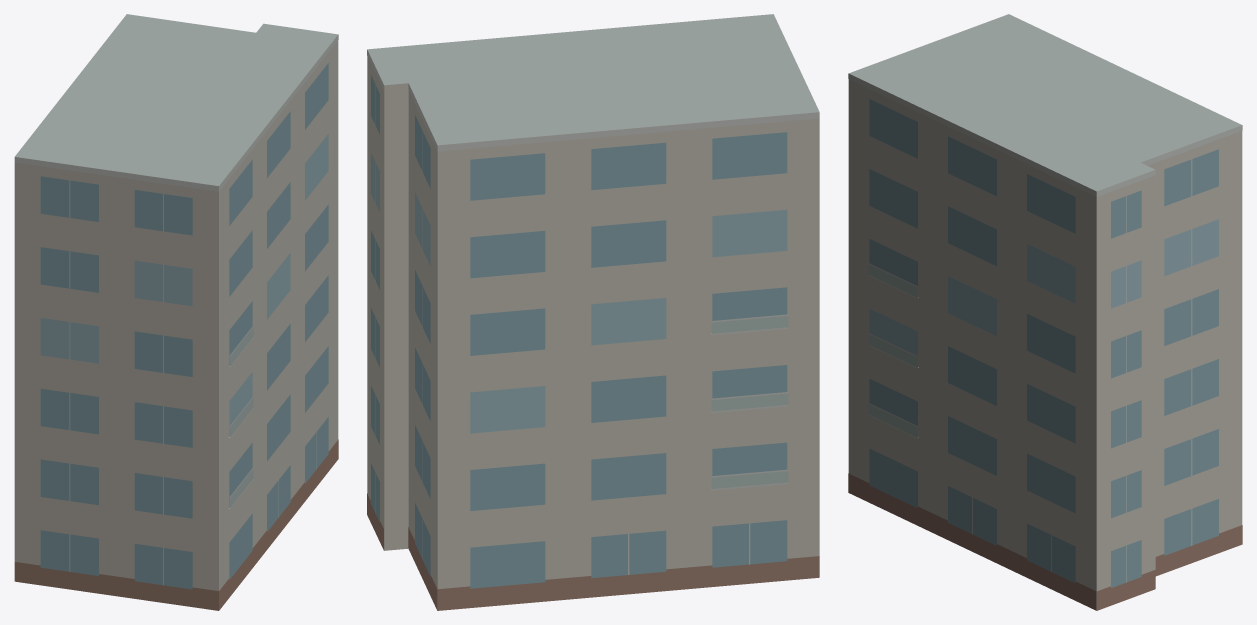
The model's file is survey-upis-33044207.glb.
The picture shows the model from 3 angles, left to right: view 1: azimuth 30°, elevation 25°; view 2: azimuth 150°, elevation 25°; view 3: azimuth 270°, elevation 25°; orthographic projection. The views are drawn at different scales.
Visible parts, largest first — view 1: survey-upis-33044207.tmp; view 2: survey-upis-33044207.tmp; view 3: survey-upis-33044207.tmp.
Boxes of the visible parts, left/top/right/bottom form: survey-upis-33044207.tmp: left=14, top=14, right=338, bottom=610; survey-upis-33044207.tmp: left=367, top=14, right=819, bottom=610; survey-upis-33044207.tmp: left=848, top=14, right=1242, bottom=610.
Bounding box in the file's own units: 16.62 × 18.3 × 15.58.
